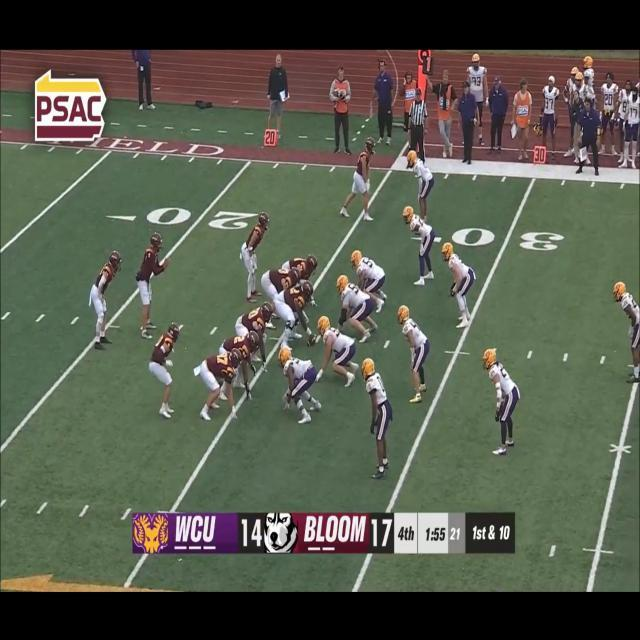football: (306, 330, 321, 350)
